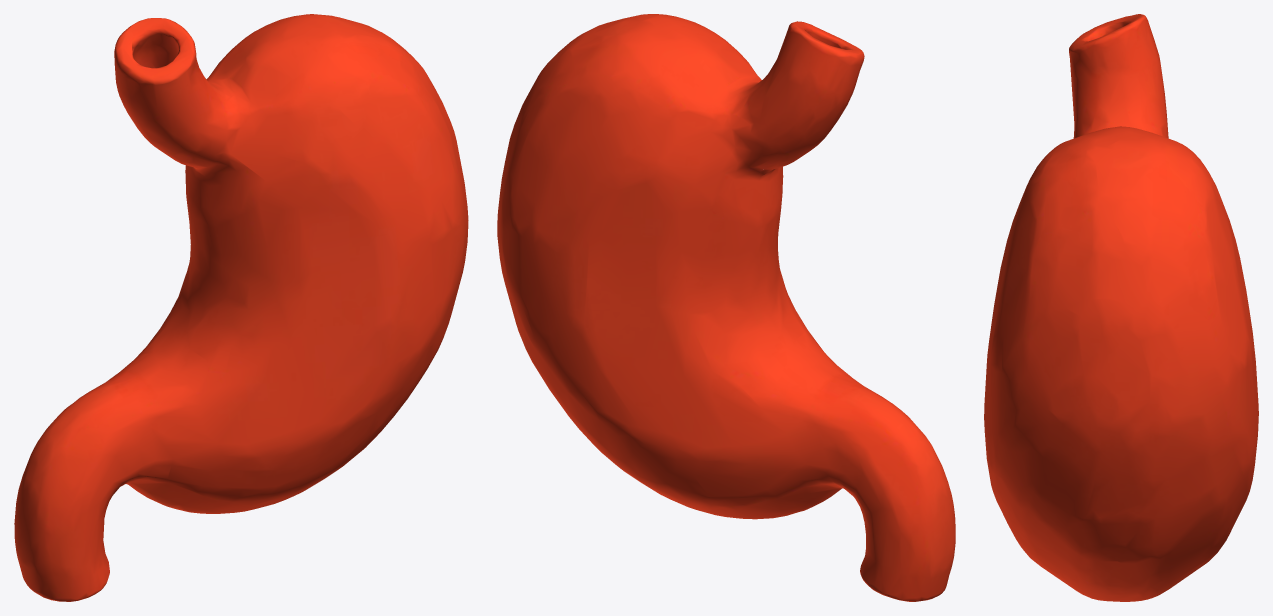
File: estomago.glb
The picture shows the model from 3 angles, left to right: view 1: azimuth 30°, elevation 25°; view 2: azimuth 150°, elevation 25°; view 3: azimuth 270°, elevation 25°; orthographic projection. The views are drawn at different scales.
Parts seen in each view (by area): view 1: corpo; view 2: corpo; view 3: corpo.
Part boxes in pixels (bbox=[...]): corpo: bbox=[14, 14, 468, 601]; corpo: bbox=[497, 14, 955, 601]; corpo: bbox=[984, 14, 1258, 601].
Bounding box in the file's own units: 0.8131 × 0.9802 × 0.4309.
1 material, 1 textured.
